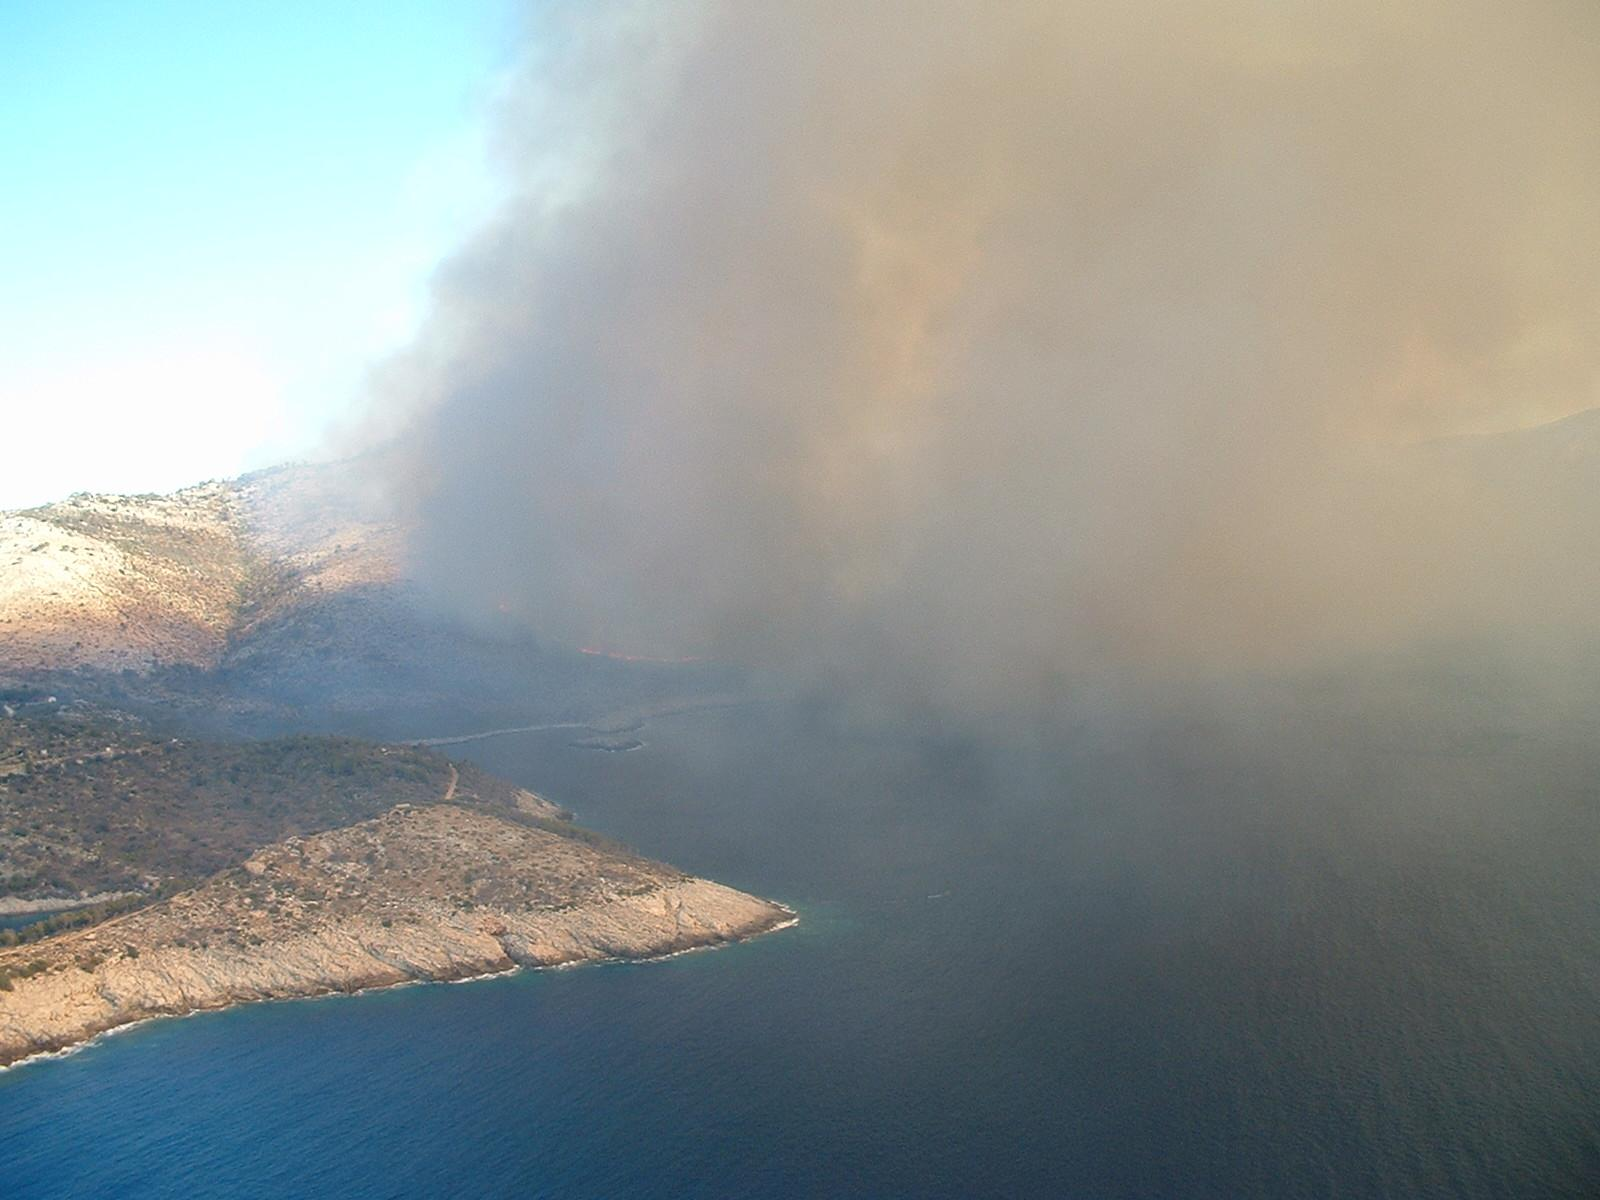Smoke: (232, 1, 1591, 845)
